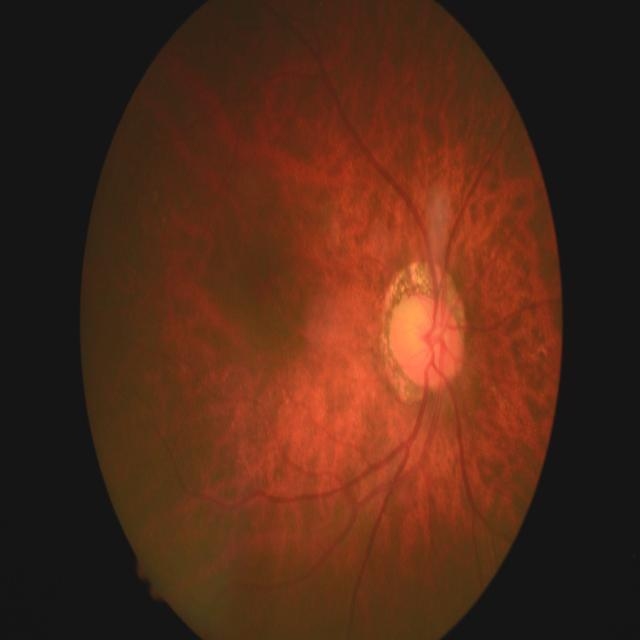cup: (403, 299, 441, 362)
disk: (388, 293, 466, 389)
